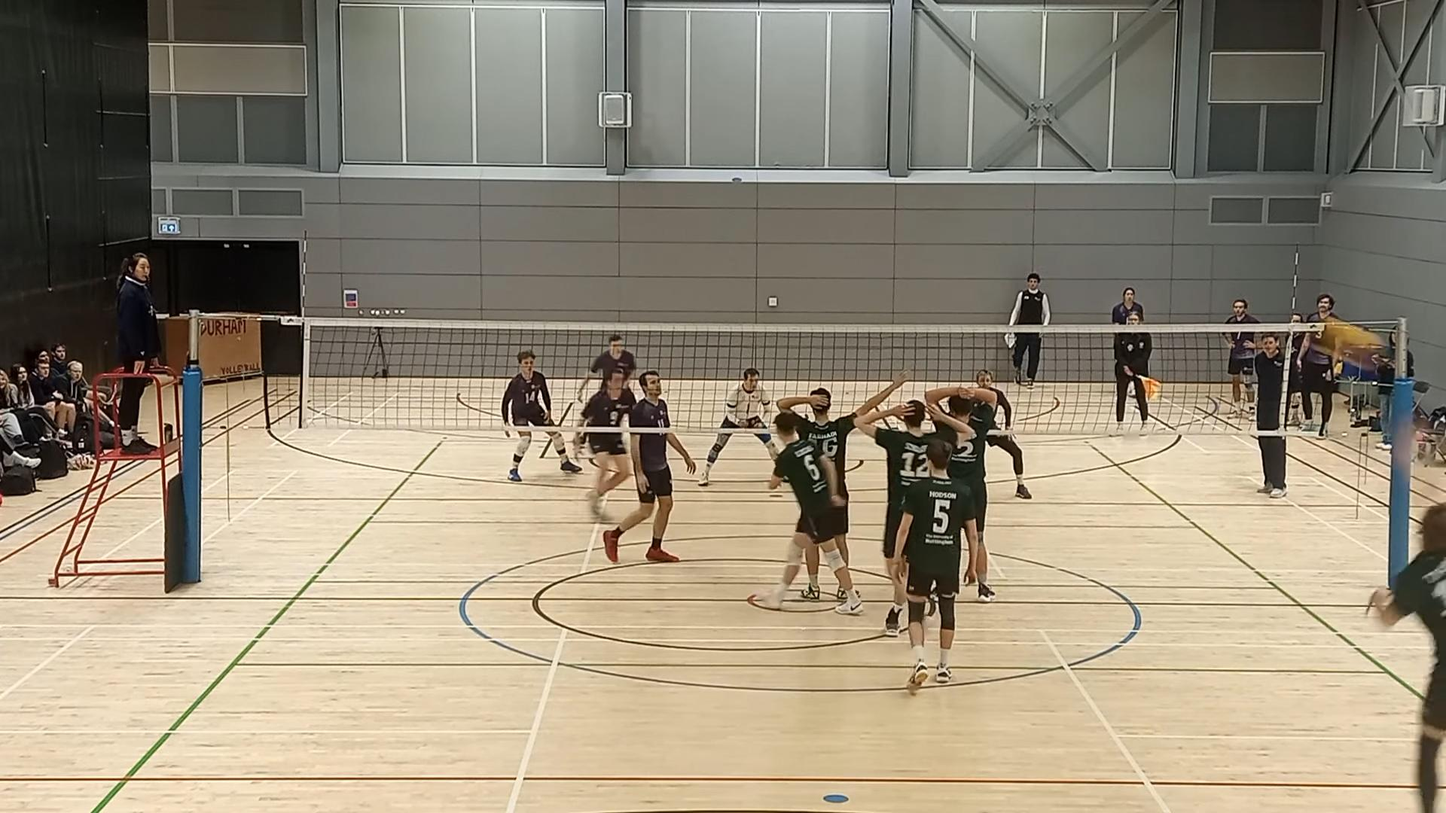Player: (857, 400, 972, 635), (778, 371, 908, 562), (891, 437, 978, 691), (755, 411, 862, 614), (925, 385, 996, 602), (603, 431, 696, 562), (501, 350, 581, 481), (577, 333, 636, 401), (586, 431, 631, 518), (579, 333, 636, 397), (720, 367, 771, 429), (987, 435, 1031, 499)
Serve: (1369, 497, 1446, 813)
